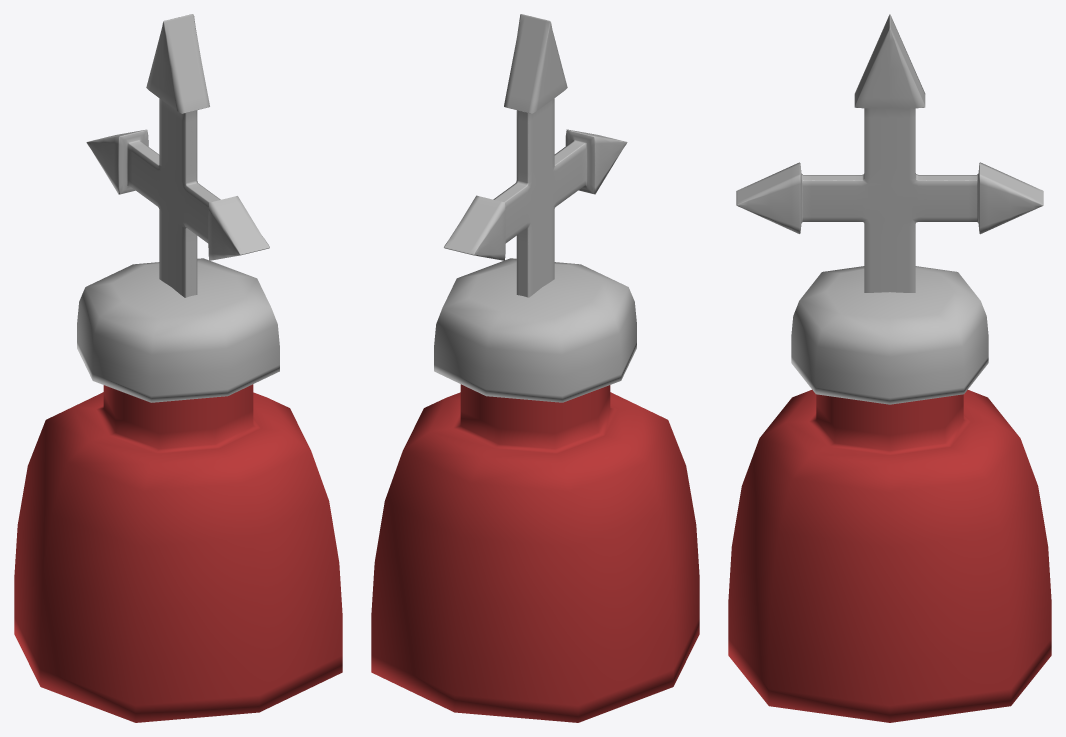
File: Holywater.fbx
3 views of the same model, side by side, from view 1: azimuth 30°, elevation 25°; view 2: azimuth 150°, elevation 25°; view 3: azimuth 270°, elevation 25° (orthographic).
Parts seen in each view (by area): view 1: Holy_water; view 2: Holy_water; view 3: Holy_water.
Part boxes in pixels (<box>): Holy_water: <box>14,14,342,722</box>; Holy_water: <box>371,14,699,722</box>; Holy_water: <box>728,14,1051,722</box>.
Size of the model in its own units: 258 by 575 by 262.
